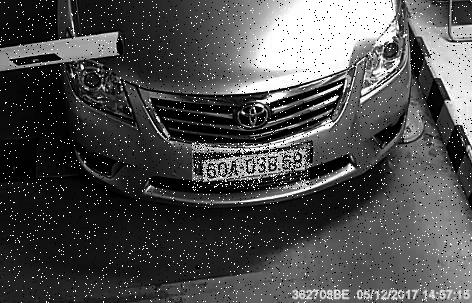License-plate: (193, 144, 311, 190)
